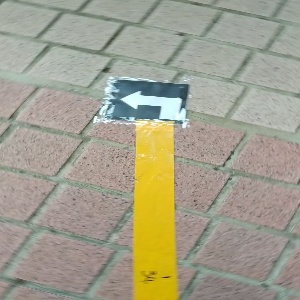left: (104, 76, 187, 121)
